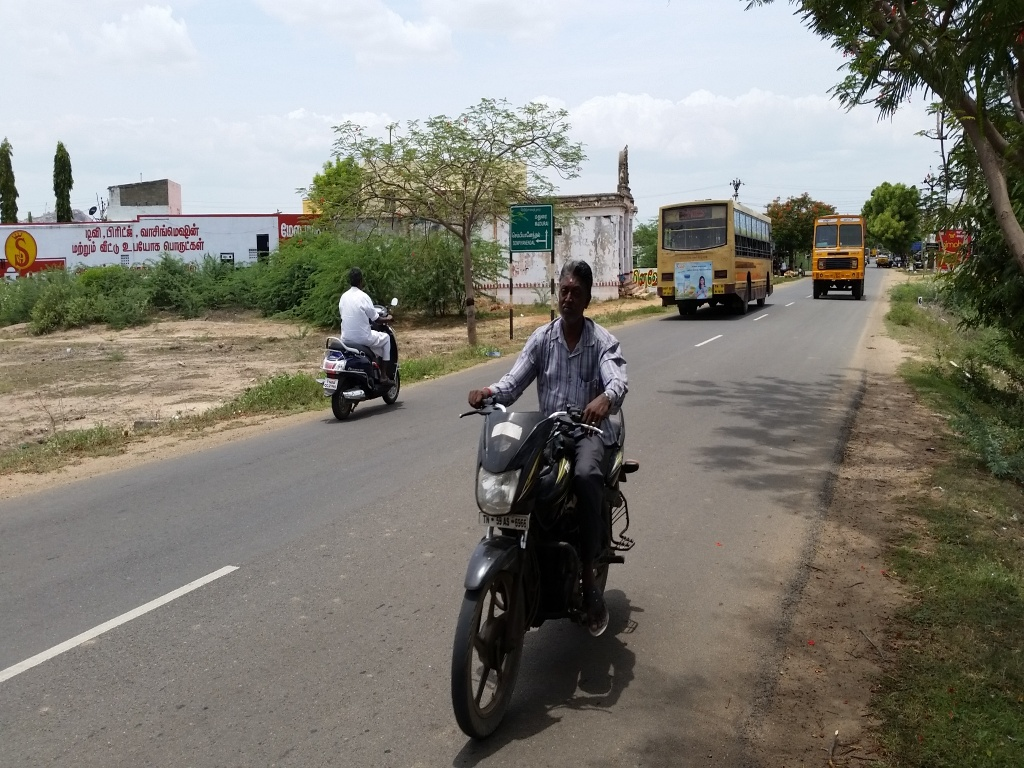biker: (437, 212, 712, 757), (303, 229, 434, 435)
nohelmet: (546, 247, 606, 340), (345, 263, 371, 303)
